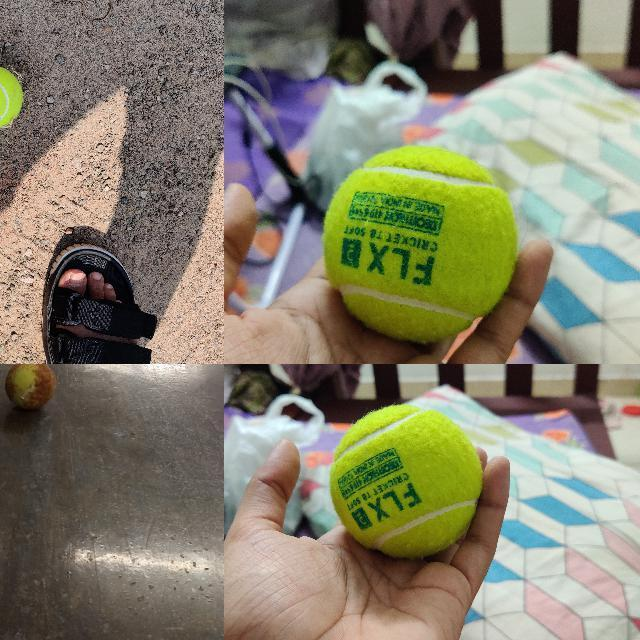tennis-ball: (322, 145, 519, 343), (330, 404, 483, 556), (4, 364, 57, 411), (0, 65, 23, 130)
